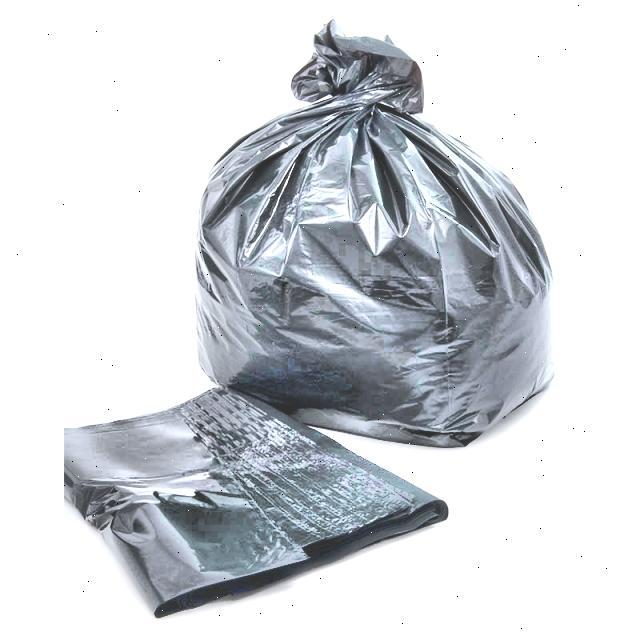Trashbag: (192, 94, 551, 455)
